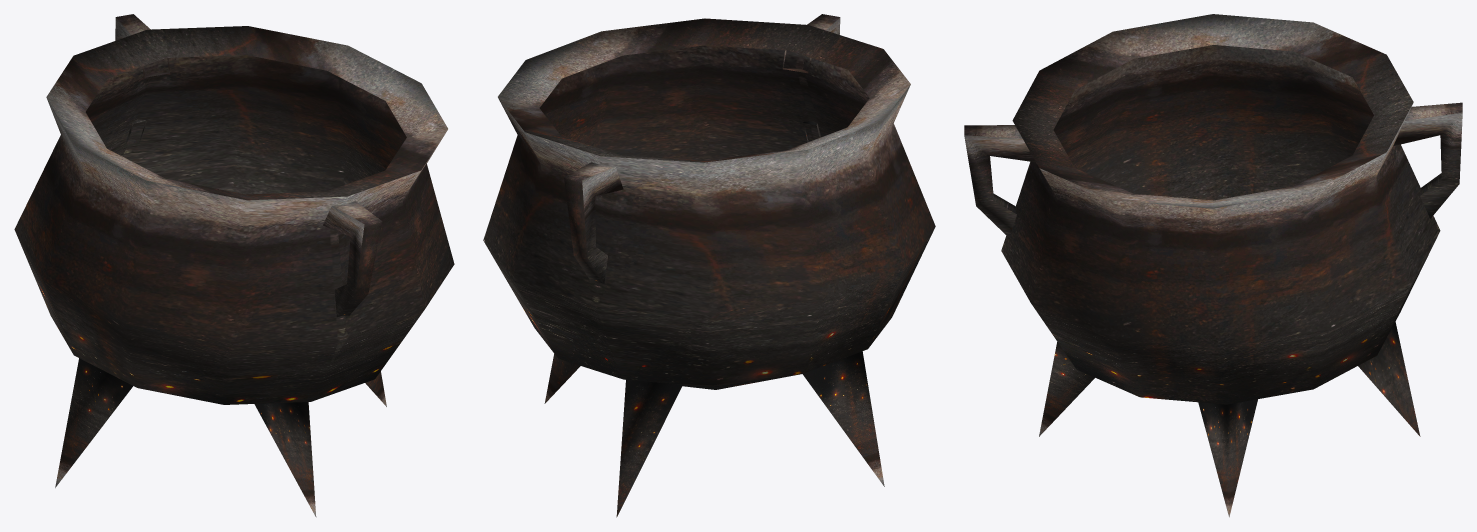
The model's file is cauldronempty.obj.
The picture shows the model from 3 angles, left to right: view 1: azimuth 30°, elevation 25°; view 2: azimuth 150°, elevation 25°; view 3: azimuth 270°, elevation 25°; orthographic projection. The views are drawn at different scales.
Parts seen in each view (by area): view 1: cauldronempty; view 2: cauldronempty; view 3: cauldronempty.
Part boxes in pixels (x1,y1,x2,y2): cauldronempty: (14, 14, 454, 517); cauldronempty: (483, 14, 935, 517); cauldronempty: (964, 14, 1462, 517).
Bounding box in the file's own units: 1.78 × 1.57 × 2.02.
1 material, 1 textured.
